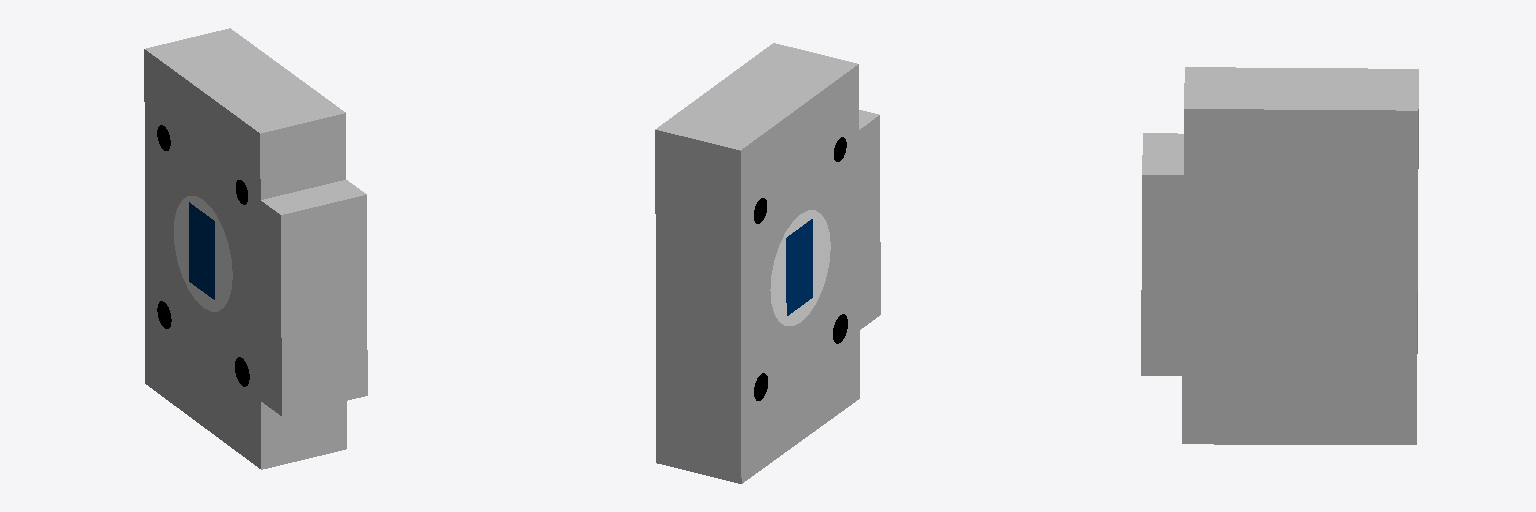
Rendered from LeadBrick.obj.
3 views of the same model, side by side, from view 1: azimuth 30°, elevation 25°; view 2: azimuth 150°, elevation 25°; view 3: azimuth 270°, elevation 25° (orthographic).
Visible parts, largest first — view 1: Mesh1 Group1 Model; view 2: Mesh1 Group1 Model; view 3: Mesh1 Group1 Model.
Part boxes in pixels (left/top/right/bottom): Mesh1 Group1 Model: left=144, top=28, right=367, bottom=469; Mesh1 Group1 Model: left=655, top=43, right=880, bottom=483; Mesh1 Group1 Model: left=1141, top=67, right=1418, bottom=444.
Size of the model in its own units: 0.3678 by 1.36 by 1.02.